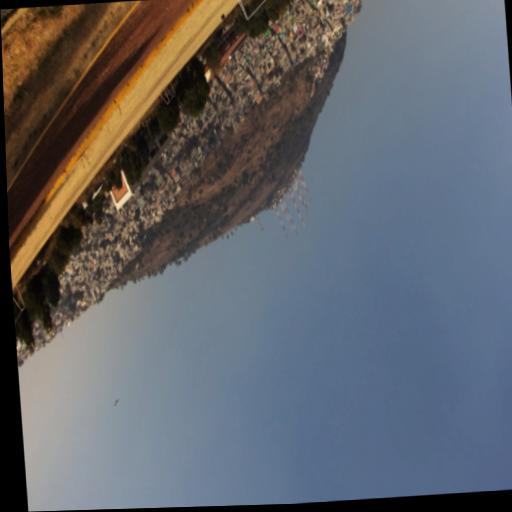drones: (112, 397, 120, 407)
